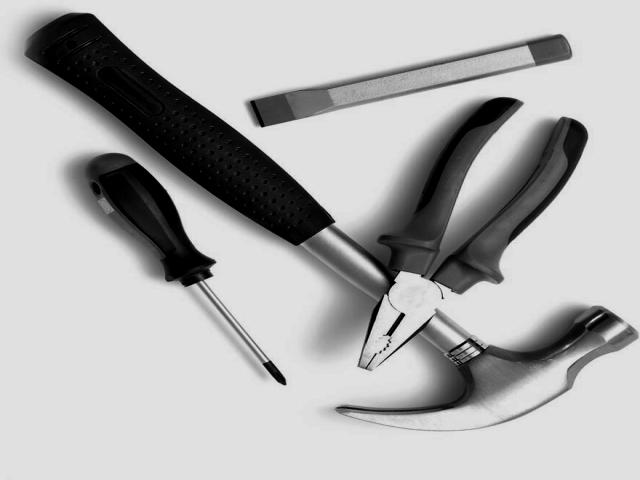Hammer: (23, 12, 637, 430)
Pliers: (358, 98, 588, 370)
Screwdriver: (85, 154, 286, 385)
